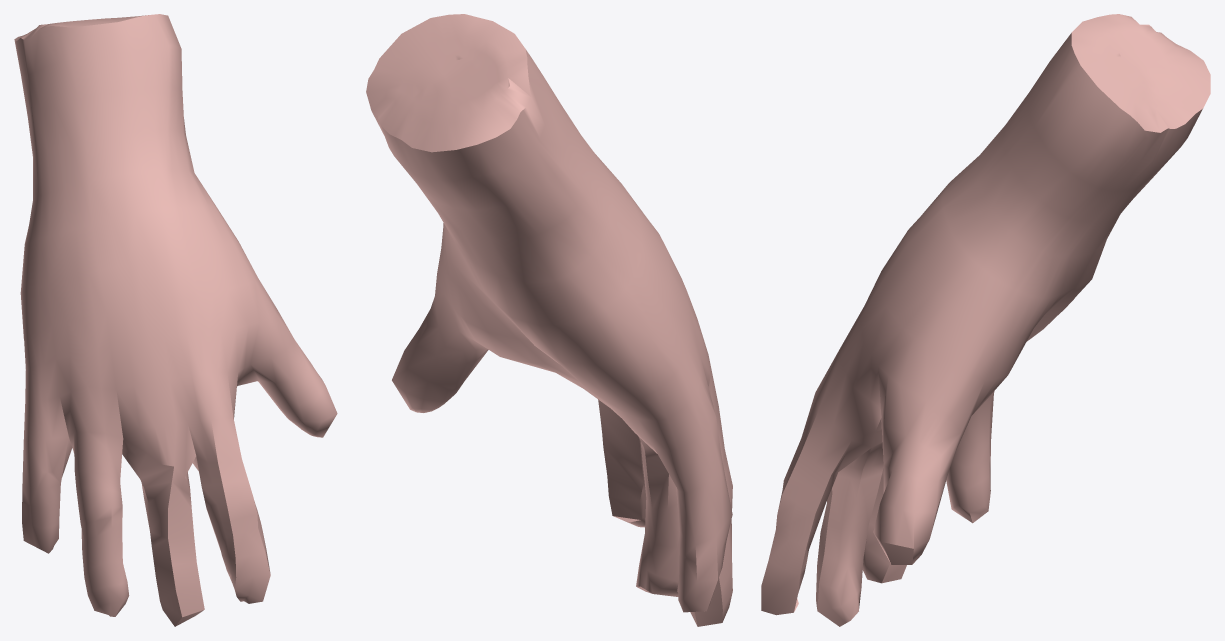
3 renders of one model, left to right at view 1: azimuth 30°, elevation 25°; view 2: azimuth 150°, elevation 25°; view 3: azimuth 270°, elevation 25°, orthographic. The views are drawn at different scales.
Visible parts, largest first — view 1: polySurface1_lambert1_0; view 2: polySurface1_lambert1_0; view 3: polySurface1_lambert1_0.
Part boxes in pixels (left/top/right/bottom): polySurface1_lambert1_0: left=14, top=14, right=337, bottom=626; polySurface1_lambert1_0: left=366, top=14, right=732, bottom=626; polySurface1_lambert1_0: left=761, top=14, right=1210, bottom=626.
Size of the model in its own units: 0.5731 by 1 by 0.6692.
